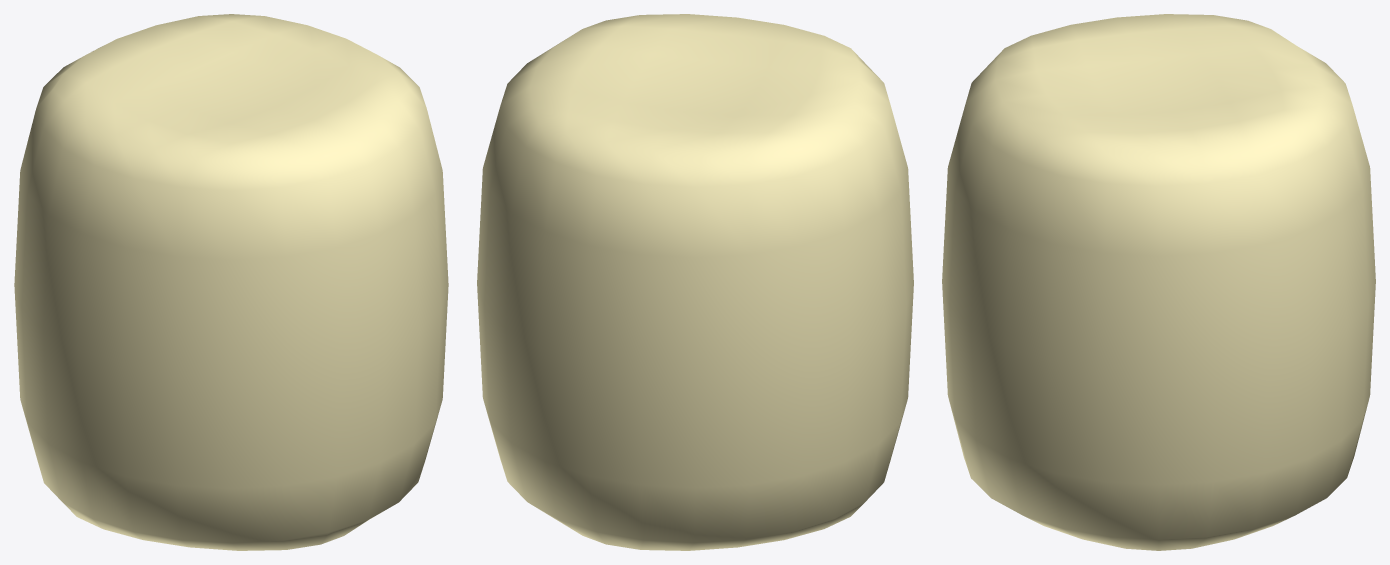
Rendered from Marshmallow White.fbx.
3 renders of one model, left to right at view 1: azimuth 30°, elevation 25°; view 2: azimuth 150°, elevation 25°; view 3: azimuth 270°, elevation 25°, orthographic.
Parts seen in each view (by area): view 1: Marshmallow White; view 2: Marshmallow White; view 3: Marshmallow White.
Boxes of the visible parts, x1,y1,x2,y2 form: Marshmallow White: (14,14,448,550); Marshmallow White: (477,14,913,550); Marshmallow White: (942,14,1375,550).
Size of the model in its own units: 0.1566 by 0.1604 by 0.1566.
